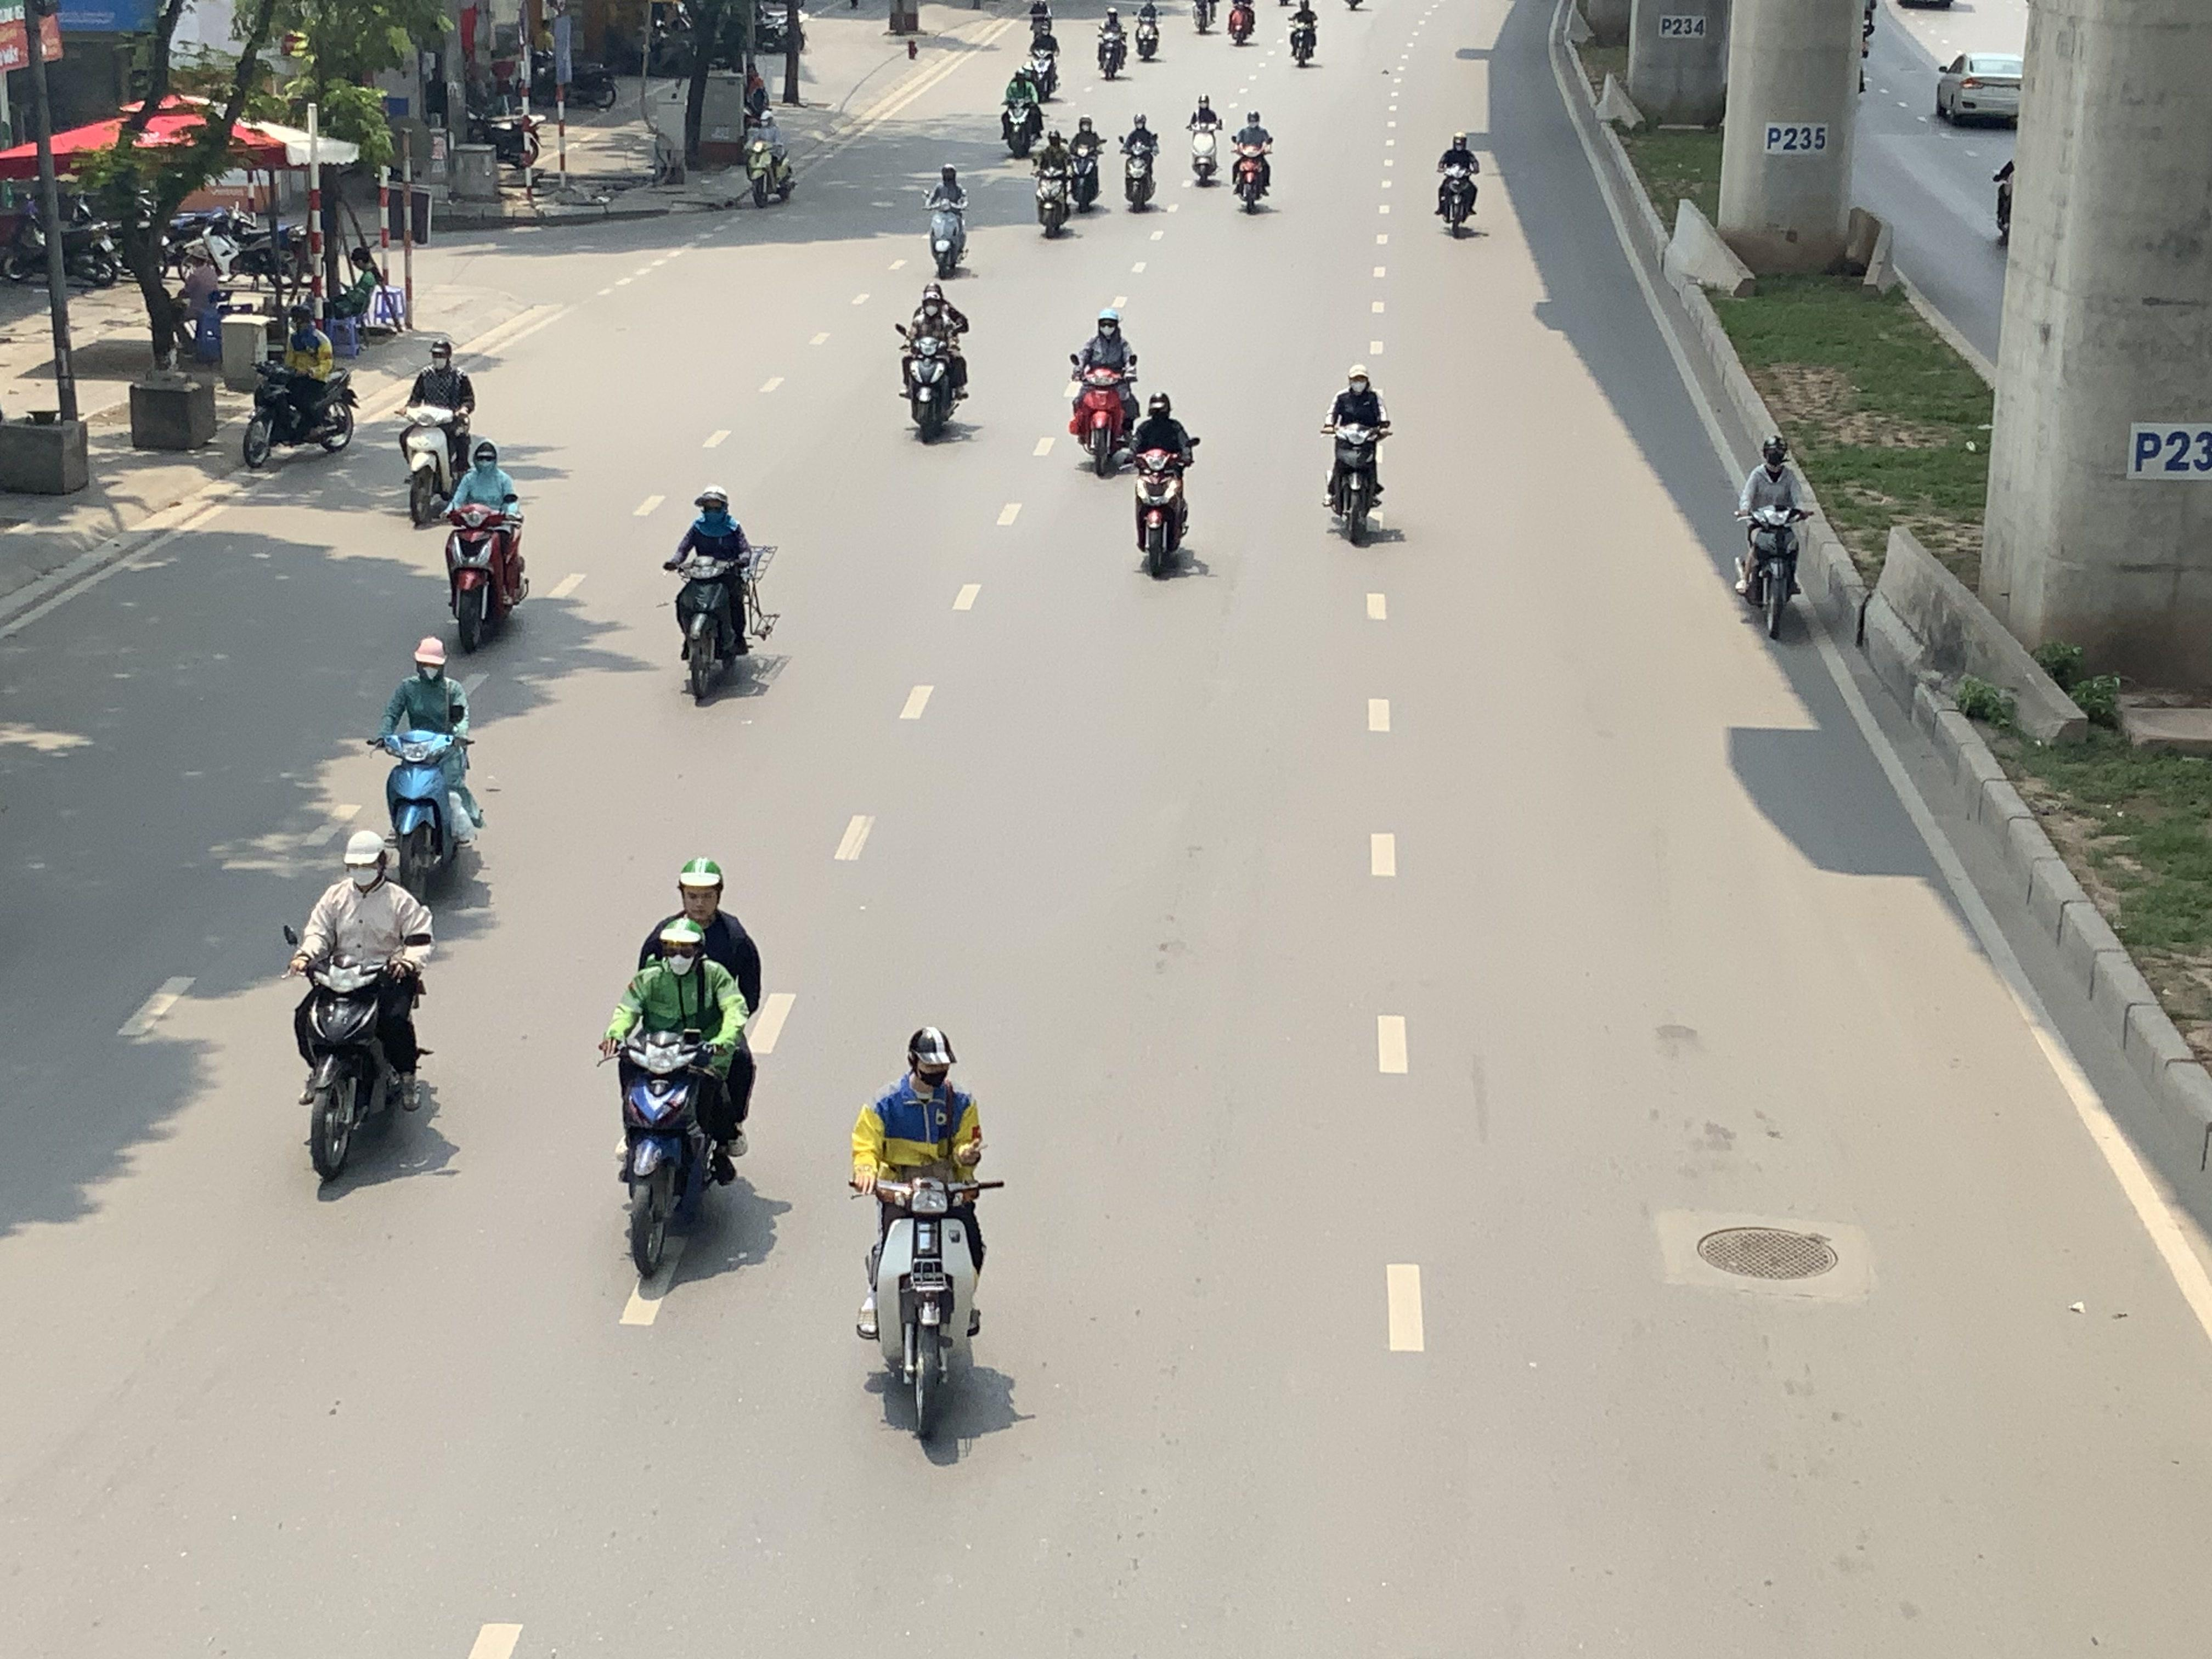car: (1935, 49, 2026, 129)
motorbike: (601, 857, 763, 1288), (850, 1023, 995, 1441), (284, 828, 439, 1195), (374, 636, 486, 903), (665, 484, 777, 708), (442, 436, 529, 653), (240, 310, 359, 469), (1733, 434, 1813, 641), (397, 338, 477, 526), (1129, 389, 1198, 579), (1322, 364, 1392, 547), (895, 279, 970, 444), (1068, 307, 1139, 477), (923, 162, 972, 279), (742, 105, 796, 207), (1031, 122, 1078, 239), (1435, 131, 1480, 237), (1000, 59, 1047, 159), (1231, 108, 1275, 213), (1066, 112, 1108, 213), (1120, 108, 1160, 213), (1186, 92, 1223, 188), (1026, 19, 1062, 98), (1096, 2, 1130, 82), (1285, 0, 1320, 68), (1134, 0, 1162, 63), (1228, 0, 1258, 45), (1190, 0, 1217, 35)
